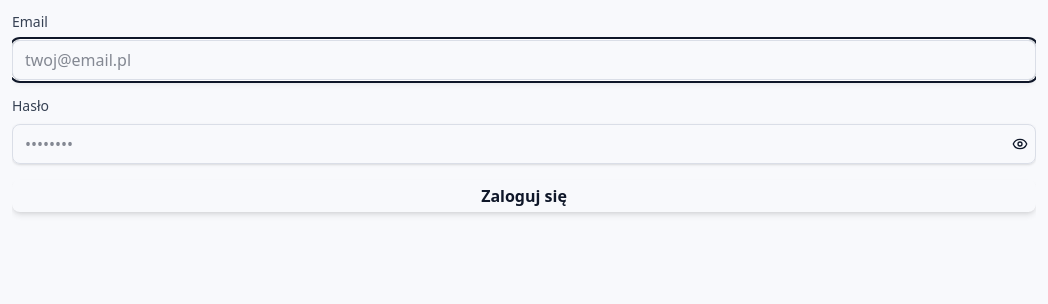
Test: LoginForm › Error Handling › should show error message for network error
In the field labelled "Email": (524, 60) top-left (12, 40), bottom-right (1036, 80), type "test@example.com"
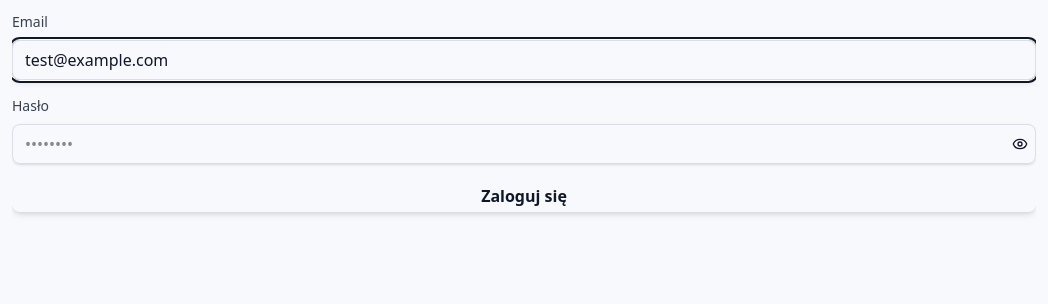
In the password field labelled "Hasło": (524, 144) top-left (12, 124), bottom-right (1036, 164), type "password123"
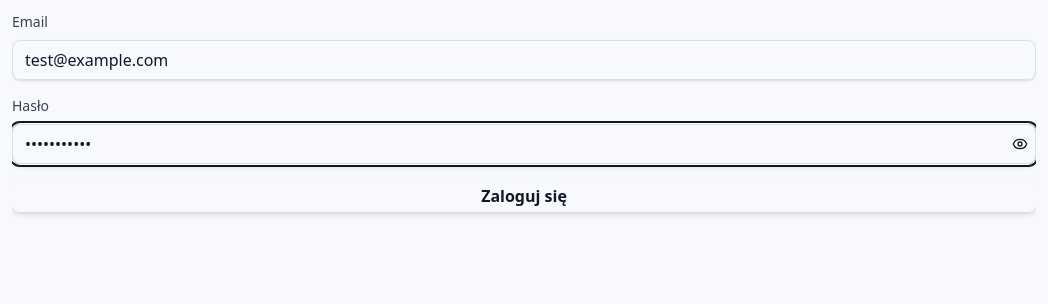
Click the button "Zaloguj się": (524, 196) top-left (12, 180), bottom-right (1036, 212)
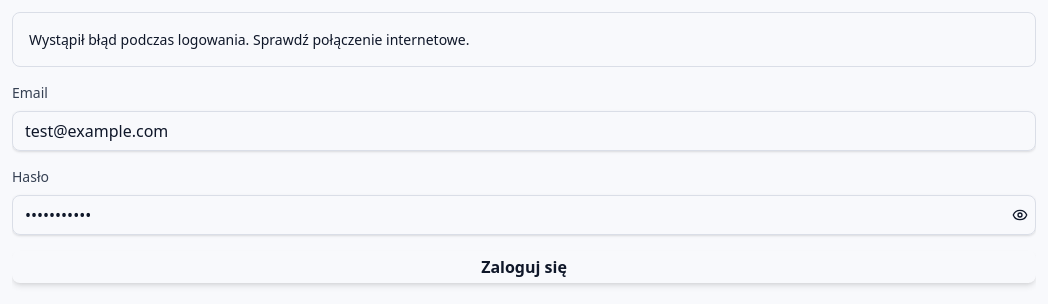
expect the text "Wystąpił błąd podczas logowania. Sprawdź połączenie internetowe." is shown: met, box top-left (29, 30), bottom-right (470, 49)
